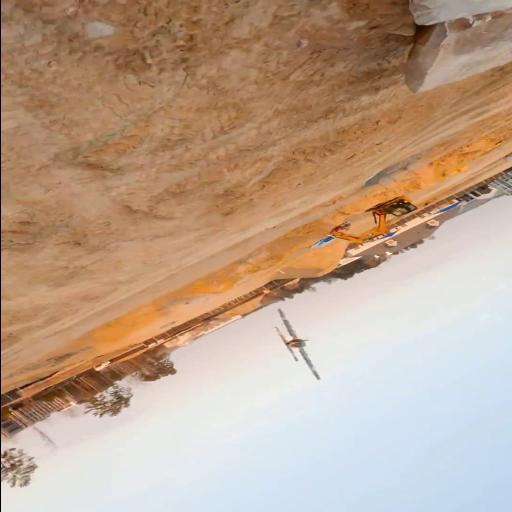uav: (266, 306, 326, 384)
